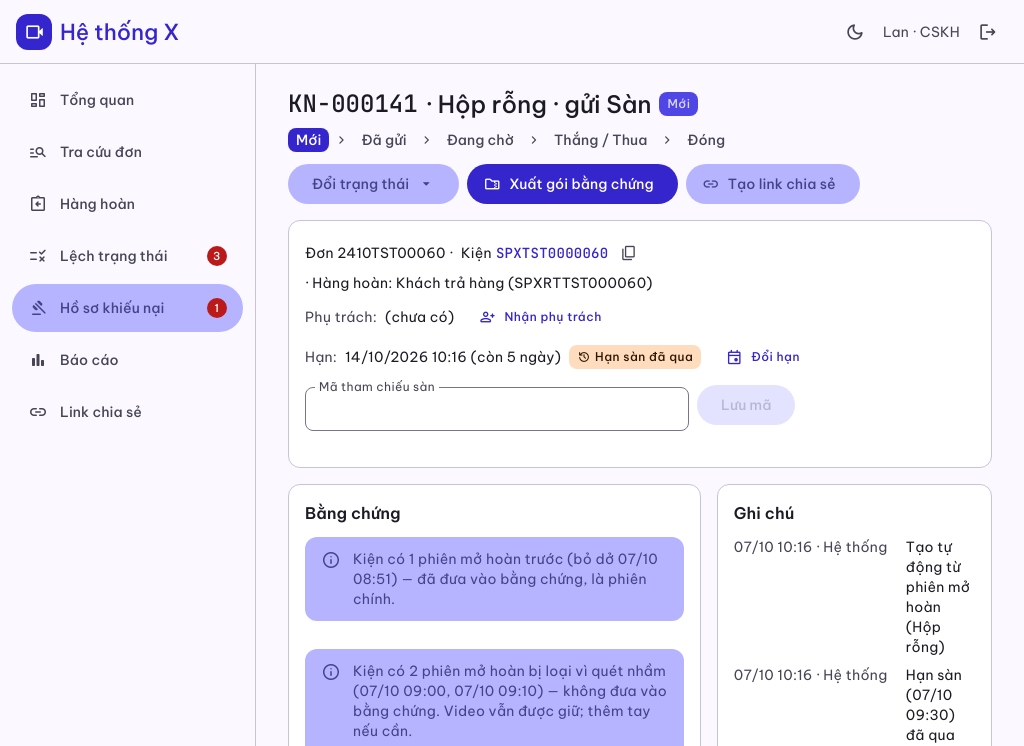
Test: biên 1.800 giây (đúng 30 phút) vẫn hợp lệ
The width and height of the screenshot is (1024, 746).
Click the button "Tạo link chia sẻ": (773,184) [686,164,860,204]
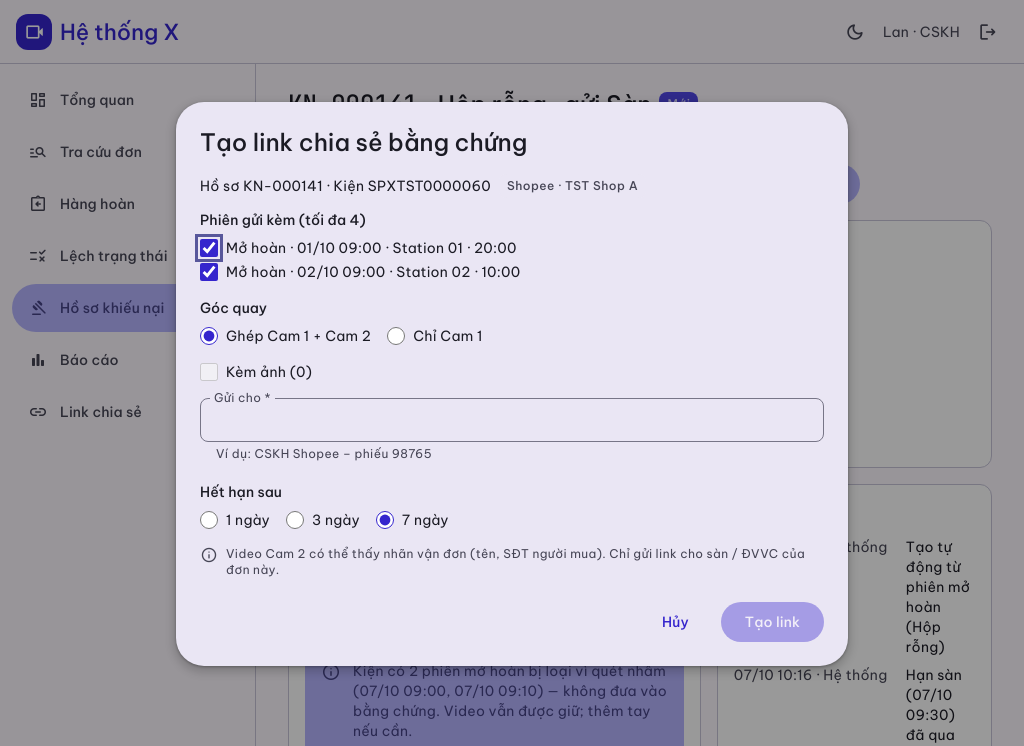
Now the text "Phiên gửi kèm (tối đa 4)" is shown, box [200,210,366,230]
In the field labelled "Gửi cho *": (512,420) [200,398,824,442], type "CSKH"
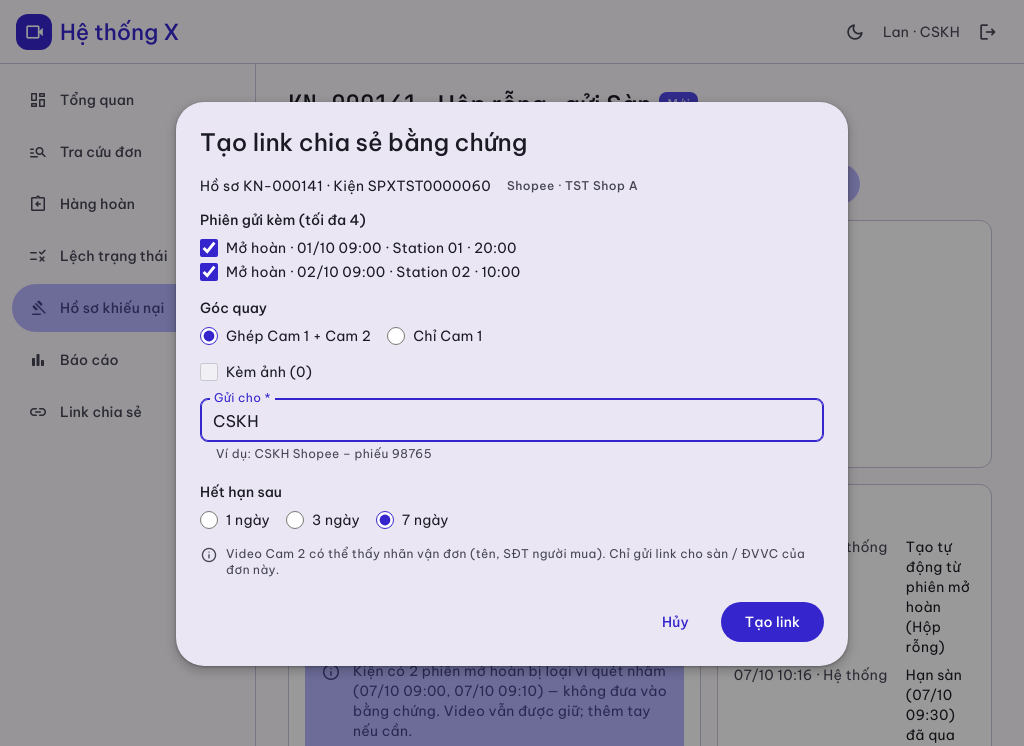
Now the checkbox labelled "Kèm ảnh (0)" is disabled, box [200,363,218,381]
Now the button "Tạo link" is enabled, box [721,602,824,642]
